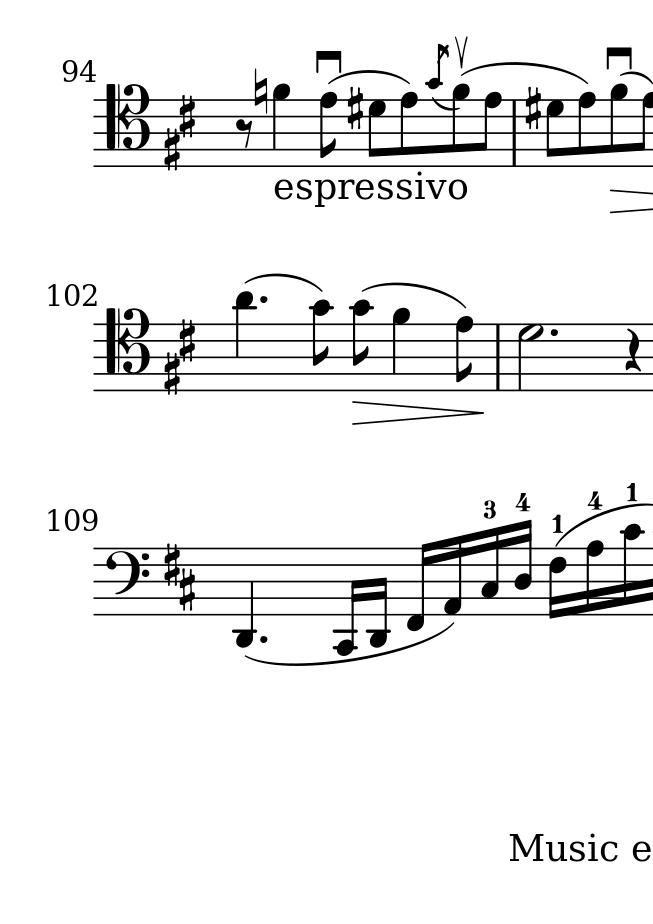0: (62, 282, 80, 307)
1: (46, 283, 61, 309), (46, 508, 61, 534), (551, 513, 564, 534), (626, 480, 639, 501)
16_-1: (404, 541, 434, 632)
16_-3: (366, 546, 390, 650)
16_-4: (332, 546, 363, 658)
16_1: (441, 534, 464, 617)
16_10: (621, 522, 645, 615)
16_3: (479, 524, 501, 617)
16_4: (513, 519, 534, 617)
16_6: (546, 546, 568, 620)
16_8: (583, 539, 605, 617)
2: (79, 282, 98, 308)
2_7: (515, 322, 544, 392)
3: (483, 498, 496, 520)
4: (79, 58, 97, 85), (514, 490, 531, 511), (587, 489, 602, 510)
4_-3: (231, 544, 257, 651)
4_11: (232, 289, 256, 392)
4_9: (390, 306, 411, 393), (270, 82, 291, 168)
8_10: (349, 297, 374, 394), (310, 298, 334, 392)
8_7: (366, 98, 387, 168), (545, 99, 564, 168)
8_8: (476, 90, 504, 169), (317, 91, 339, 170), (453, 315, 475, 393), (576, 90, 597, 169), (398, 91, 419, 168)
8_9: (608, 82, 629, 169), (450, 81, 469, 170)
Acciaccature: (426, 42, 450, 167)
D_S: (162, 316, 198, 393), (162, 94, 197, 172)
Diminuendo_hairpin: (351, 400, 483, 424)
Down_bow: (314, 49, 344, 74), (605, 45, 633, 69)
Fclef: (102, 546, 149, 617)
Natural: (252, 66, 268, 116)
Rests4: (622, 326, 642, 373)
Rests8: (234, 117, 255, 151)
Sharp: (345, 85, 364, 133), (523, 85, 542, 132)
Single_barline: (491, 325, 507, 391), (506, 98, 521, 167)
Slur: (245, 620, 452, 666), (461, 62, 589, 84), (360, 282, 464, 308), (243, 272, 323, 292), (330, 70, 412, 84), (619, 70, 653, 87), (431, 97, 460, 114)
Tensor_Cclef: (104, 305, 150, 392), (103, 83, 150, 167)
Tremolo_bar: (453, 33, 470, 62)
dot: (257, 293, 269, 306), (548, 325, 560, 338), (258, 632, 269, 645)
